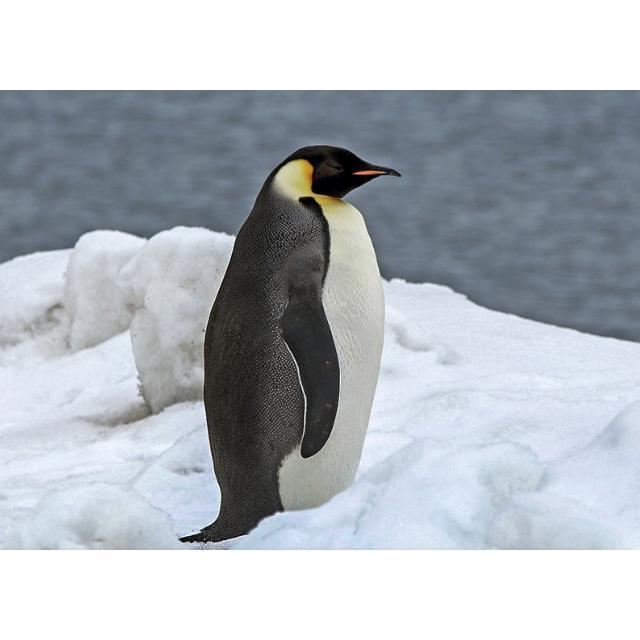penguin: (180, 144, 402, 546)
